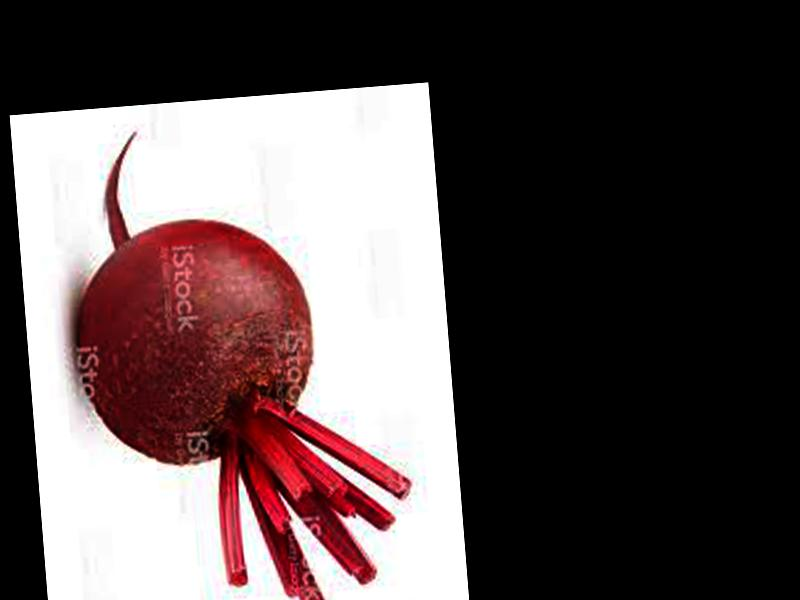Beet: (63, 113, 420, 600)
